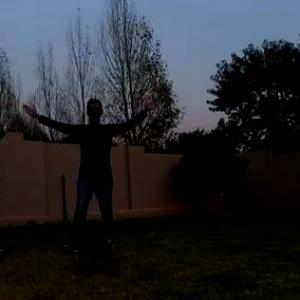takeoff: (1, 81, 151, 270)
